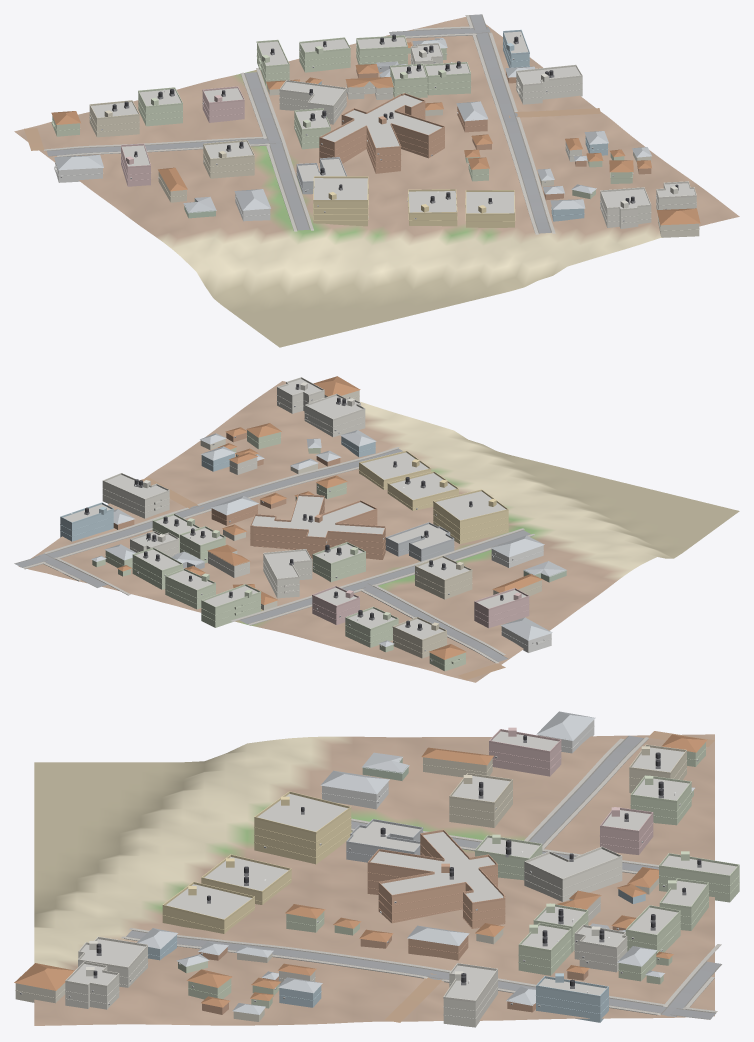
The picture shows the model from 3 angles, top to bottom: view 1: azimuth 30°, elevation 25°; view 2: azimuth 150°, elevation 25°; view 3: azimuth 270°, elevation 25°; orthographic projection. The views are drawn at different scales.
Visible parts, largest first — view 1: Terrain-col, Buildings-col, Details, Roads-col, Sidewalks-col; view 2: Terrain-col, Buildings-col, Details, Roads-col, Sidewalks-col; view 3: Terrain-col, Buildings-col, Details, Roads-col, Sidewalks-col.
Boxes of the visible parts, bbox=[...] form: Terrain-col: bbox=[14, 17, 739, 347]; Buildings-col: bbox=[51, 31, 700, 237]; Details: bbox=[51, 29, 699, 231]; Roads-col: bbox=[24, 14, 600, 233]; Sidewalks-col: bbox=[44, 15, 555, 234]; Terrain-col: bbox=[18, 381, 739, 682]; Buildings-col: bbox=[60, 376, 566, 671]; Details: bbox=[60, 377, 551, 665]; Roads-col: bbox=[14, 448, 530, 679]; Sidewalks-col: bbox=[23, 447, 534, 663]; Terrain-col: bbox=[34, 734, 714, 1025]; Buildings-col: bbox=[14, 711, 739, 1027]; Details: bbox=[15, 726, 739, 1019]; Roads-col: bbox=[126, 731, 721, 1022]; Sidewalks-col: bbox=[121, 737, 721, 1015].
Bounding box in the file's own units: 270 × 26.05 × 273.
